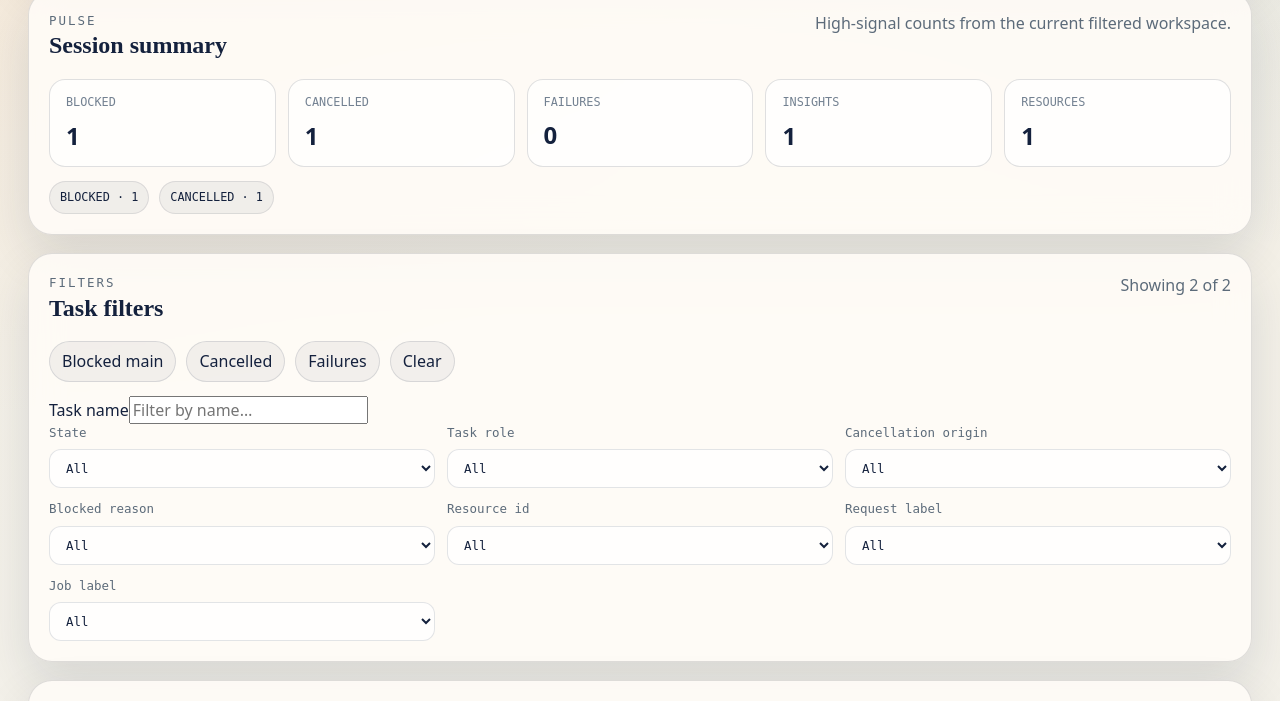
Test: App › drives blocked preset from insight task ids when task resource metadata is missing
(page scrolled)
Click the button "Blocked main" at (113, 361), box [49,341,176,381]
(page scrolled)
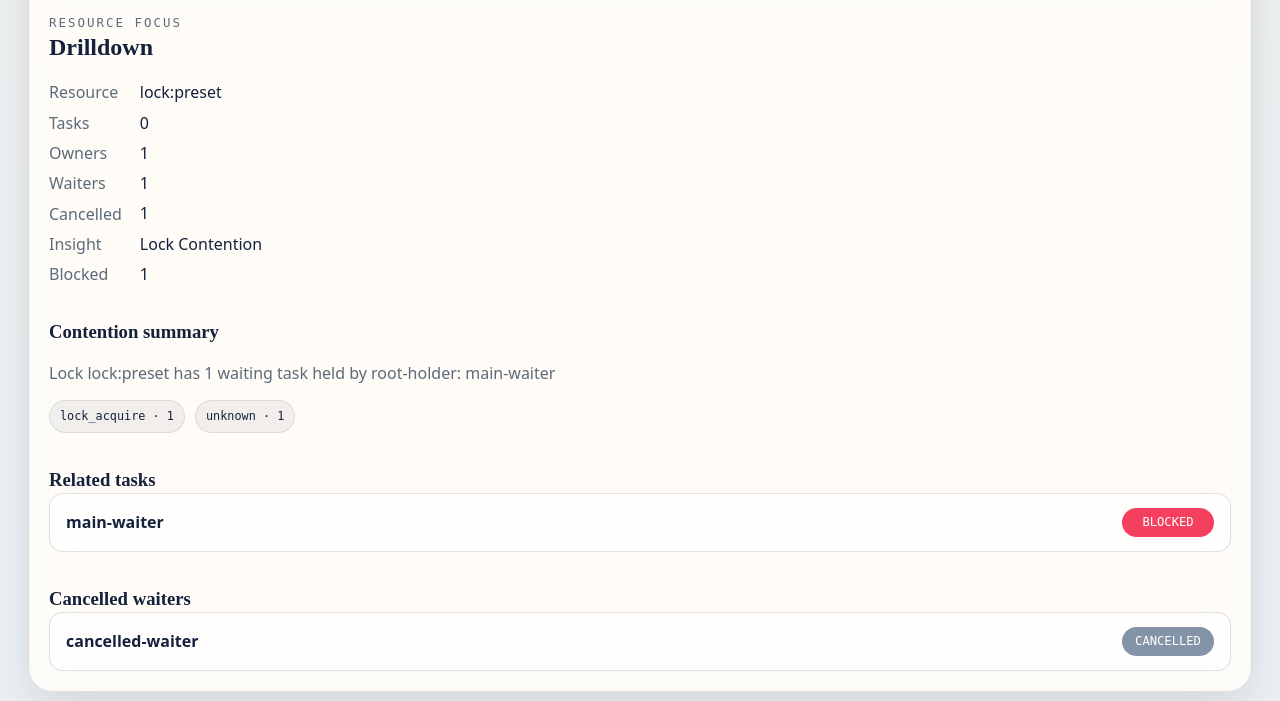
Expected: the text "Lock Contention" is shown, [140,233,262,255]
Expected: the button "main-waiter BLOCKED" is shown, [49,493,1231,552]
Expected: the heading "Cancelled waiters" is shown, [49,588,191,609]
